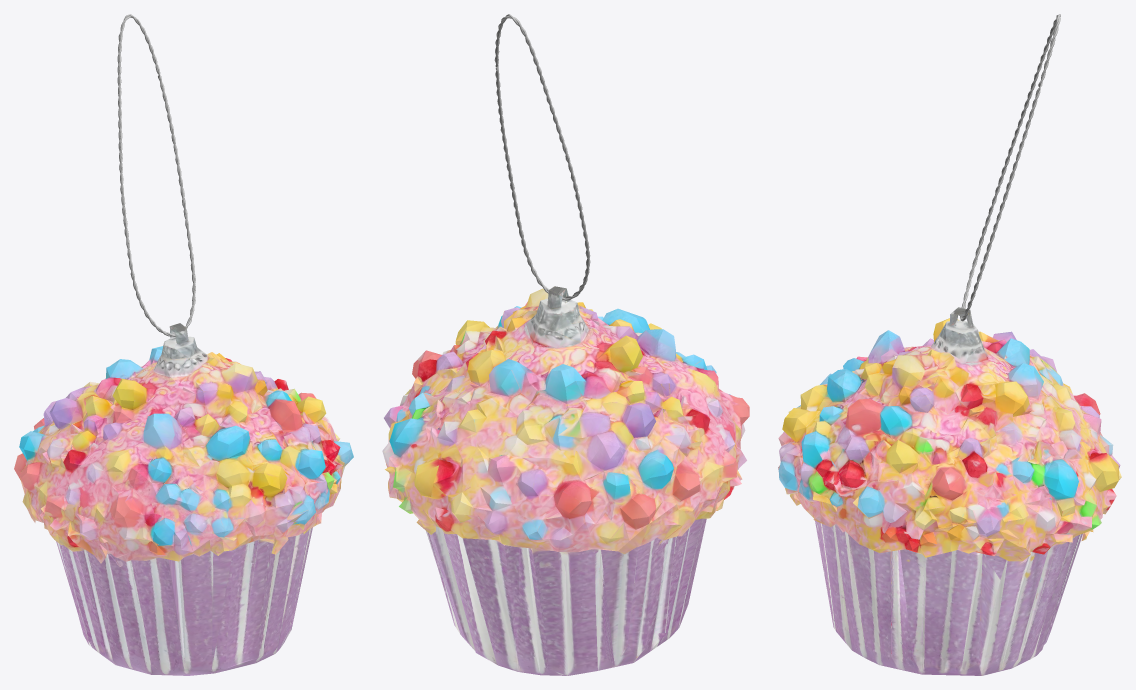
File: cupcake6.glb
3 renders of one model, left to right at view 1: azimuth 30°, elevation 25°; view 2: azimuth 150°, elevation 25°; view 3: azimuth 270°, elevation 25°, orthographic. The views are drawn at different scales.
Visible parts, largest first — view 1: Mesh1.0, GN Instance; view 2: Mesh1.0, GN Instance; view 3: Mesh1.0, GN Instance.
Boxes of the visible parts, left/top/right/bottom form: Mesh1.0: left=14, top=323, right=353, bottom=675; GN Instance: left=117, top=14, right=195, bottom=336; Mesh1.0: left=382, top=286, right=749, bottom=675; GN Instance: left=494, top=14, right=590, bottom=300; Mesh1.0: left=778, top=307, right=1121, bottom=675; GN Instance: left=960, top=14, right=1060, bottom=321.
Size of the model in its own units: 0.0731 by 0.1437 by 0.0715.
2 materials, 1 textured.
